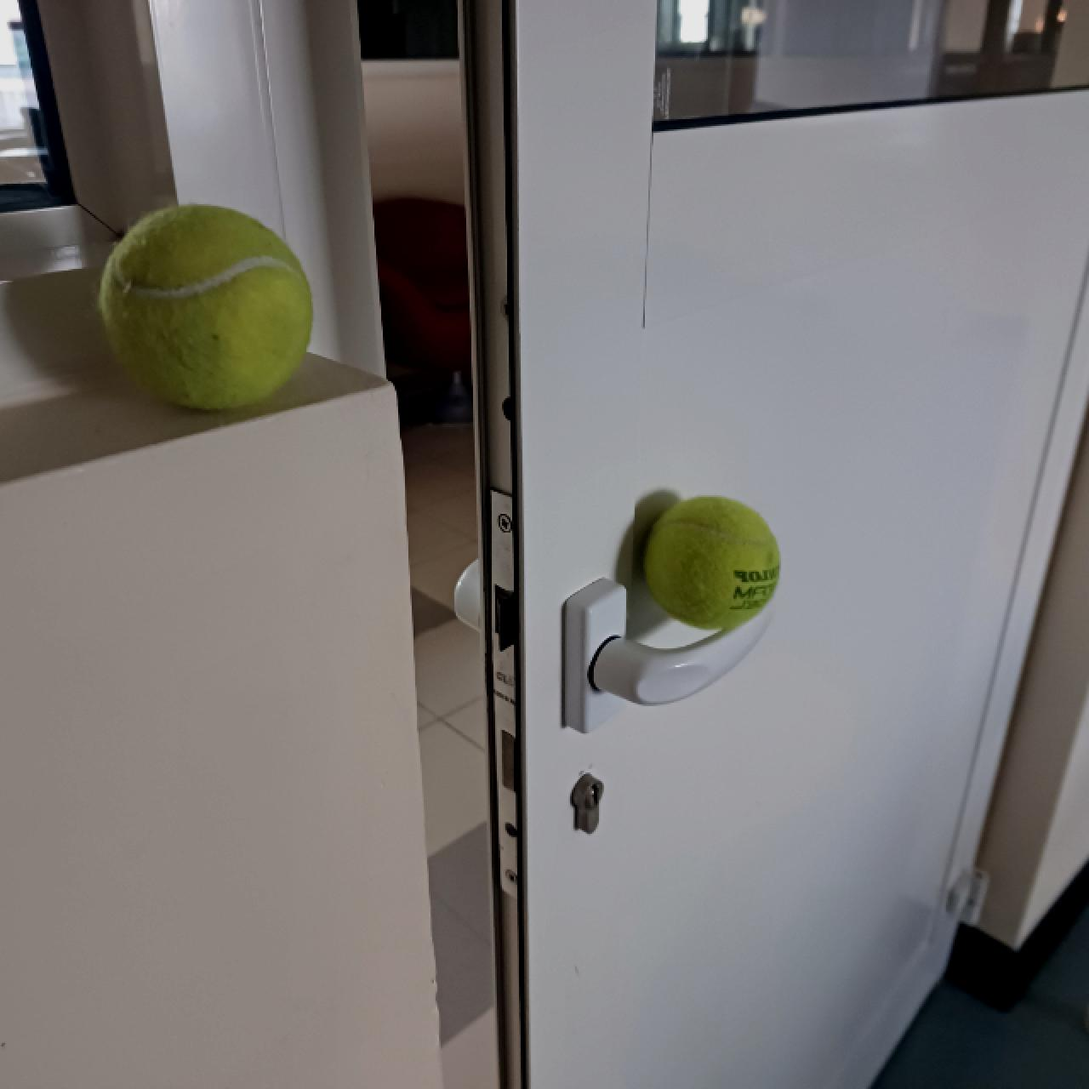tennis-ball: (96, 202, 316, 414), (640, 495, 780, 633)
